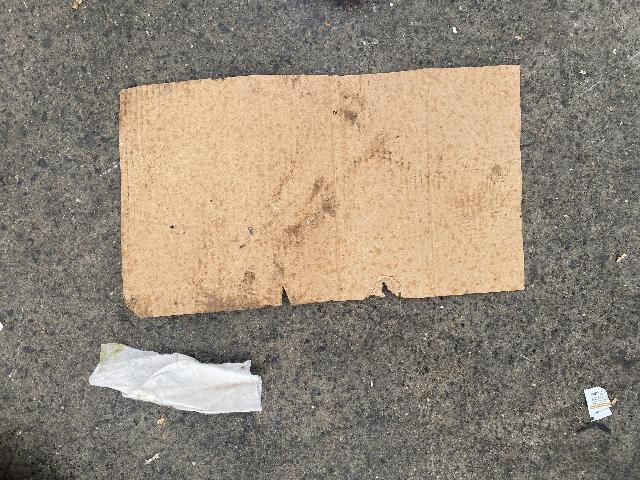Kagit: (102, 57, 543, 322), (89, 343, 262, 413), (578, 368, 616, 425)
